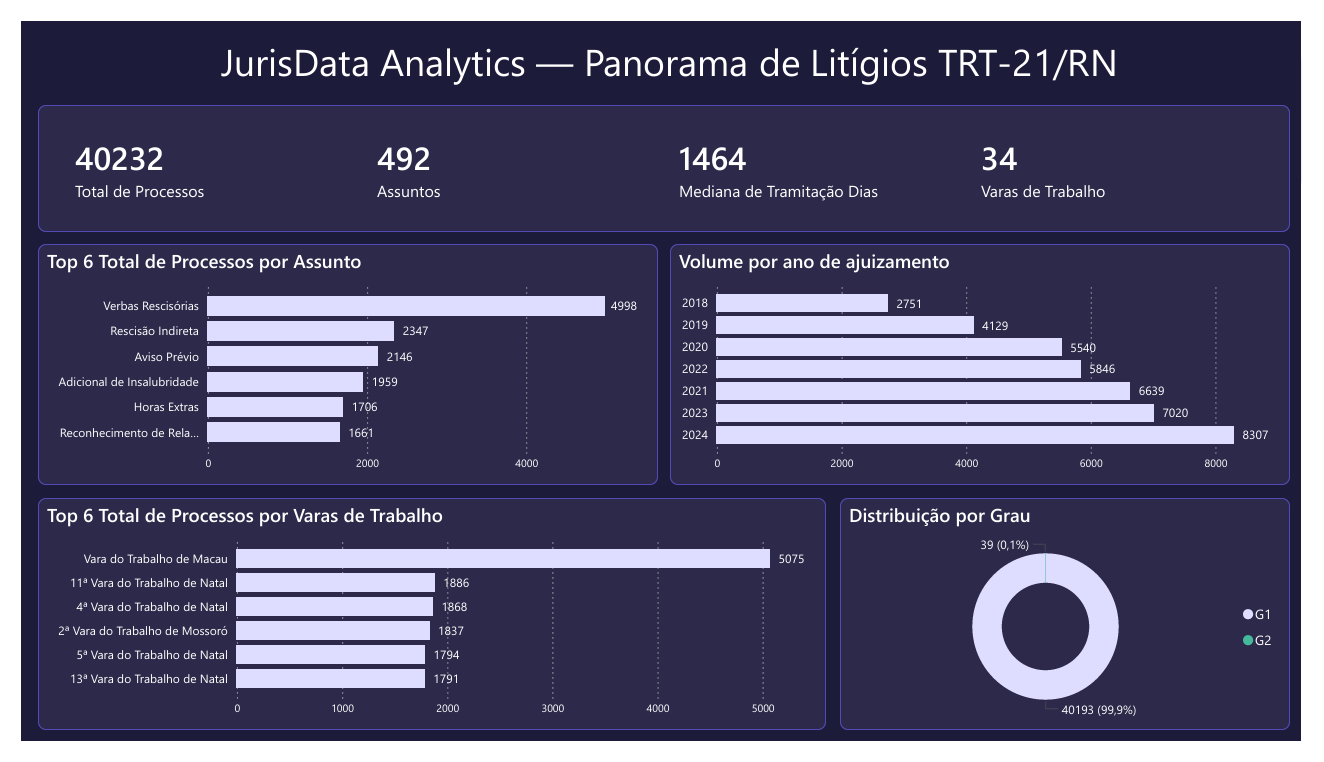

What the dashboard file says about the page in this screenshot:
{"tool":"powerbi","page":{"name":"Panorama","canvas":[1280,720],"ordinal":0},"visuals":[{"type":"cardVisual","fields":{"Data":["Count(analytics fato_processo.id)","Count(analytics dim_assunto.assunto_codigo)","Median(analytics fato_processo.tempo_tramitacao_dias)","Count(analytics dim_orgao_julgador.orgao_nome)"]},"box":[15.6,83.3,1252.2,126.7],"z":0},{"type":"clusteredBarChart","title":"Top 6 Total de Processos por Assunto","fields":{"Category":["analytics vw_assuntos.assunto_nome"],"Y":["Sum(analytics vw_assuntos.total_processos)"]},"box":[15.6,222.2,620,241.1],"z":1000},{"type":"clusteredBarChart","title":"Volume por ano de ajuizamento","fields":{"Category":["analytics vw_serie_temporal.ano"],"Y":["Sum(analytics vw_serie_temporal.total_ajuizados)"]},"box":[647.8,222.2,620,241.1],"z":2000},{"type":"clusteredBarChart","title":"Top 6 Total de Processos por Varas de Trabalho","fields":{"Category":["analytics vw_orgaos.orgao_nome"],"Y":["Sum(analytics vw_orgaos.total_processos)"]},"box":[15.6,475.6,788.9,232.2],"z":3000},{"type":"donutChart","title":"Distribuição por Grau","fields":{"Category":["analytics fato_processo.grau"],"Y":["Count(analytics fato_processo.id)"]},"box":[817.8,475.6,450,232.2],"z":4000},{"type":"textbox","box":[21.1,8.9,1252.2,68.9],"z":5000}]}

Visuals, with their boxes in screenshot pixels (x1, y1, x2, y2), scaled from the page's 1280x720 canvas onto the 1324x762 screenshot:
cardVisual - Count(analytics fato_processo.id) x Count(analytics dim_assunto.assunto_codigo): {"x1": 16, "y1": 88, "x2": 1311, "y2": 222}
"Top 6 Total de Processos por Assunto" clusteredBarChart: {"x1": 16, "y1": 235, "x2": 657, "y2": 490}
"Volume por ano de ajuizamento" clusteredBarChart: {"x1": 670, "y1": 235, "x2": 1311, "y2": 490}
"Top 6 Total de Processos por Varas de Trabalho" clusteredBarChart: {"x1": 16, "y1": 503, "x2": 832, "y2": 749}
"Distribuição por Grau" donutChart: {"x1": 846, "y1": 503, "x2": 1311, "y2": 749}
textbox: {"x1": 22, "y1": 9, "x2": 1317, "y2": 82}
